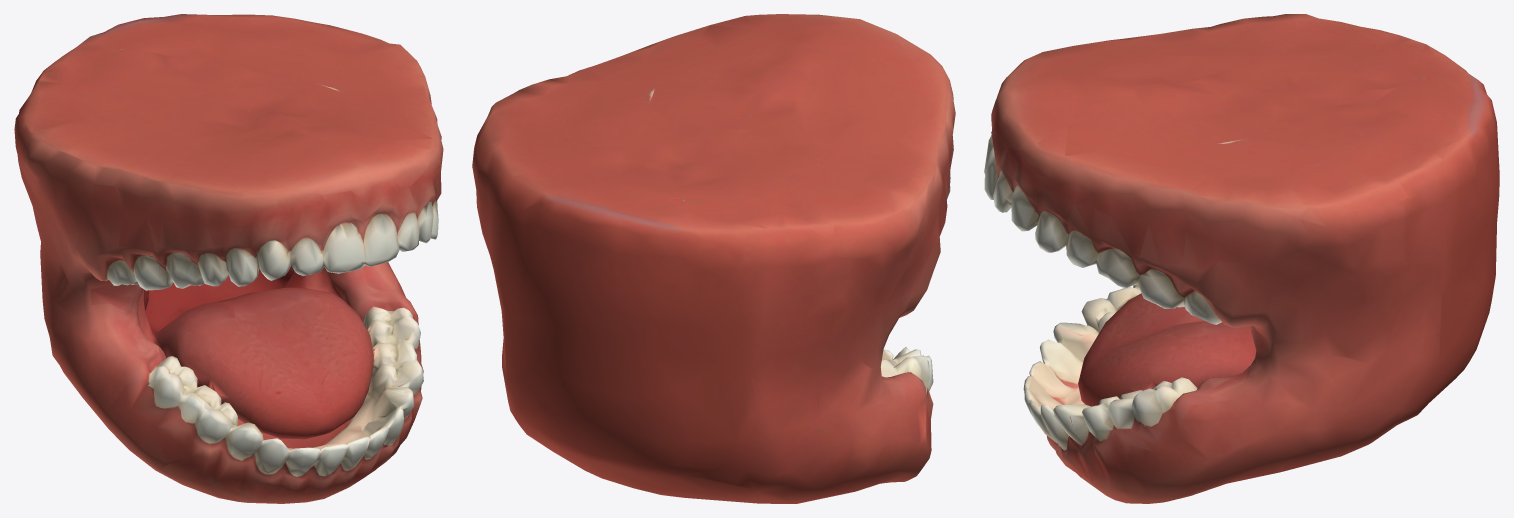
Rendered from mouth.glb.
3 views of the same model, side by side, from view 1: azimuth 30°, elevation 25°; view 2: azimuth 150°, elevation 25°; view 3: azimuth 270°, elevation 25° (orthographic). The views are drawn at different scales.
Visible parts, largest first — view 1: Mesh_0; view 2: Mesh_0; view 3: Mesh_0.
Boxes of the visible parts, x1,y1,x2,y2 form: Mesh_0: (14, 14, 443, 503); Mesh_0: (472, 14, 955, 503); Mesh_0: (984, 14, 1499, 503).
Size of the model in its own units: 1.73 by 1.58 by 1.9.
1 material, 1 textured.
